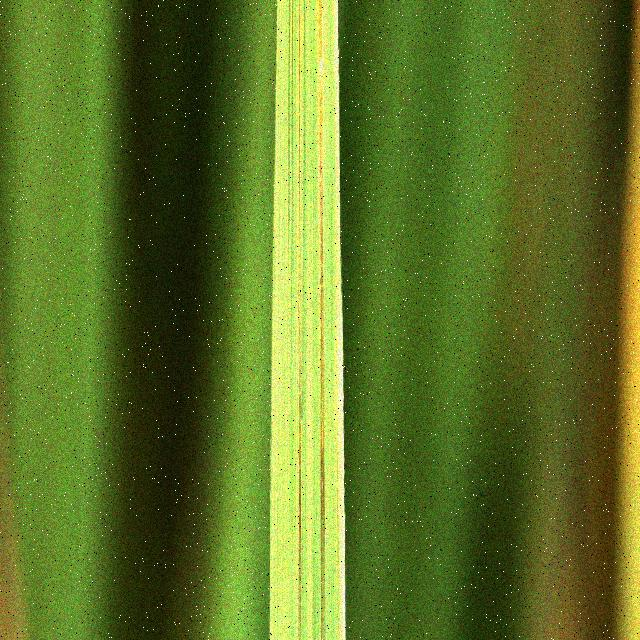BLS: (318, 0, 325, 640), (298, 0, 302, 640), (288, 0, 291, 297)
